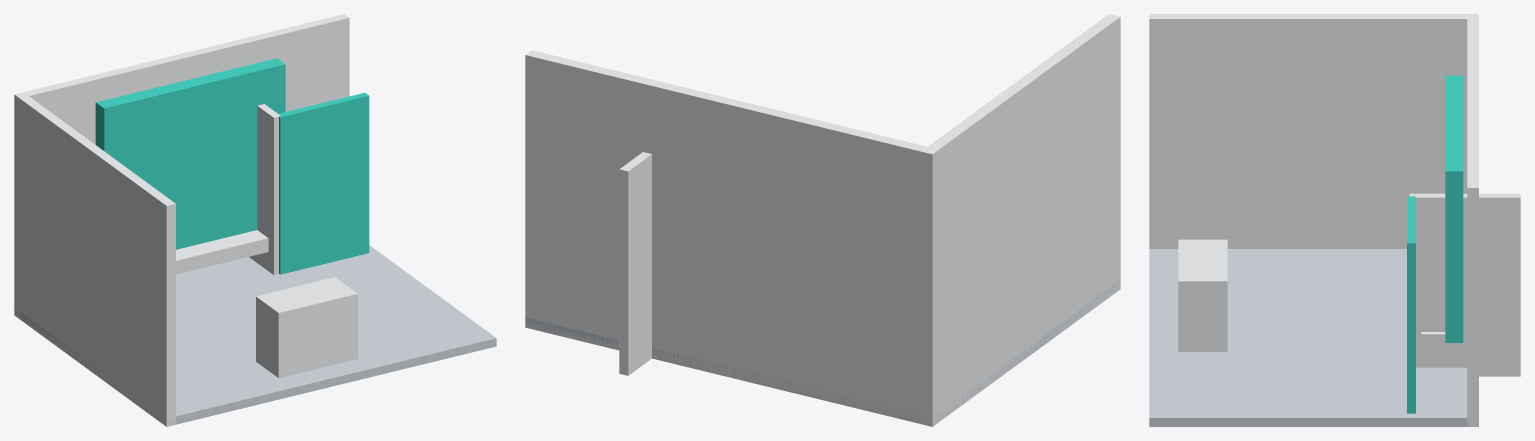
The picture shows the model from 3 angles, left to right: view 1: azimuth 30°, elevation 25°; view 2: azimuth 150°, elevation 25°; view 3: azimuth 270°, elevation 25°; orthographic projection. The views are drawn at different scales.
Parts seen in each view (by area): view 1: Exhibition Booth Concept; view 2: Exhibition Booth Concept; view 3: Exhibition Booth Concept.
Part boxes in pixels (<box>): Exhibition Booth Concept: <box>14,14,496,426</box>; Exhibition Booth Concept: <box>525,14,1120,426</box>; Exhibition Booth Concept: <box>1149,14,1520,426</box>.
Size of the model in its own units: 5 by 3.2 by 4.51.
